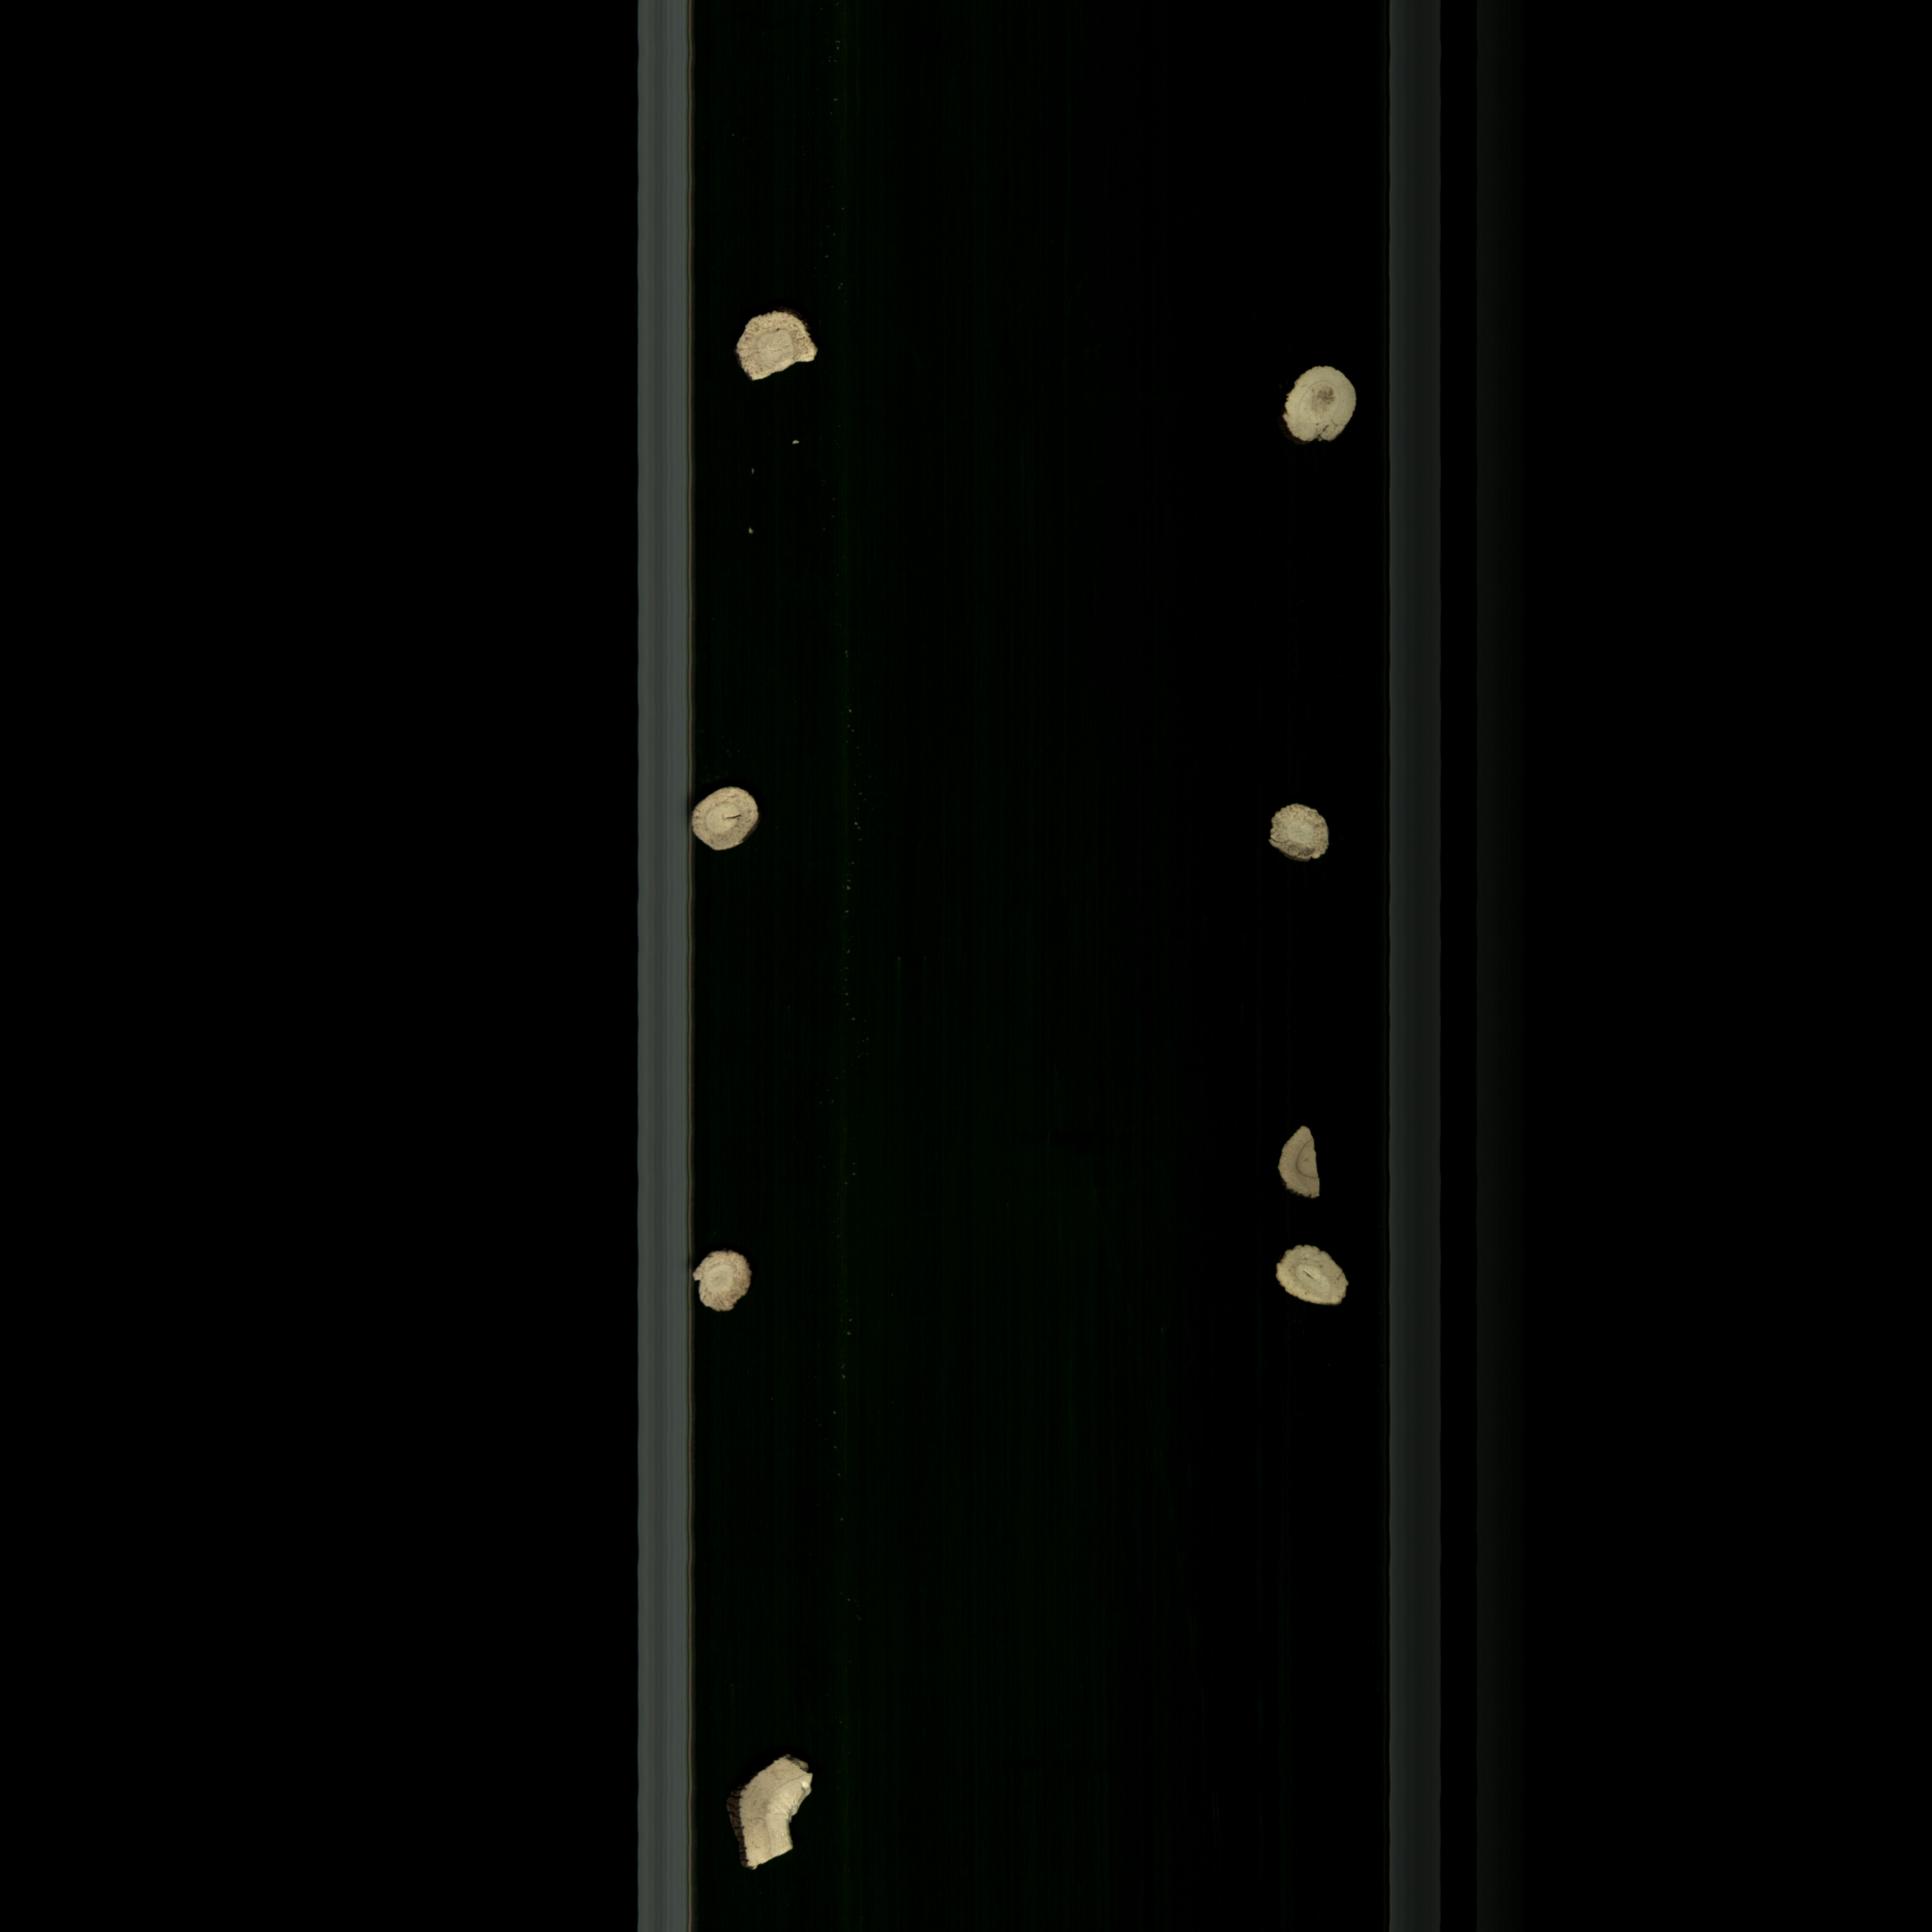debris: (724, 1744, 832, 1874), (725, 304, 828, 389), (1274, 1116, 1348, 1210), (690, 1237, 764, 1325)
distortion: (1261, 357, 1373, 464), (1260, 1242, 1368, 1320)
hole: (692, 778, 766, 862)
moldy: (1256, 794, 1332, 872)
